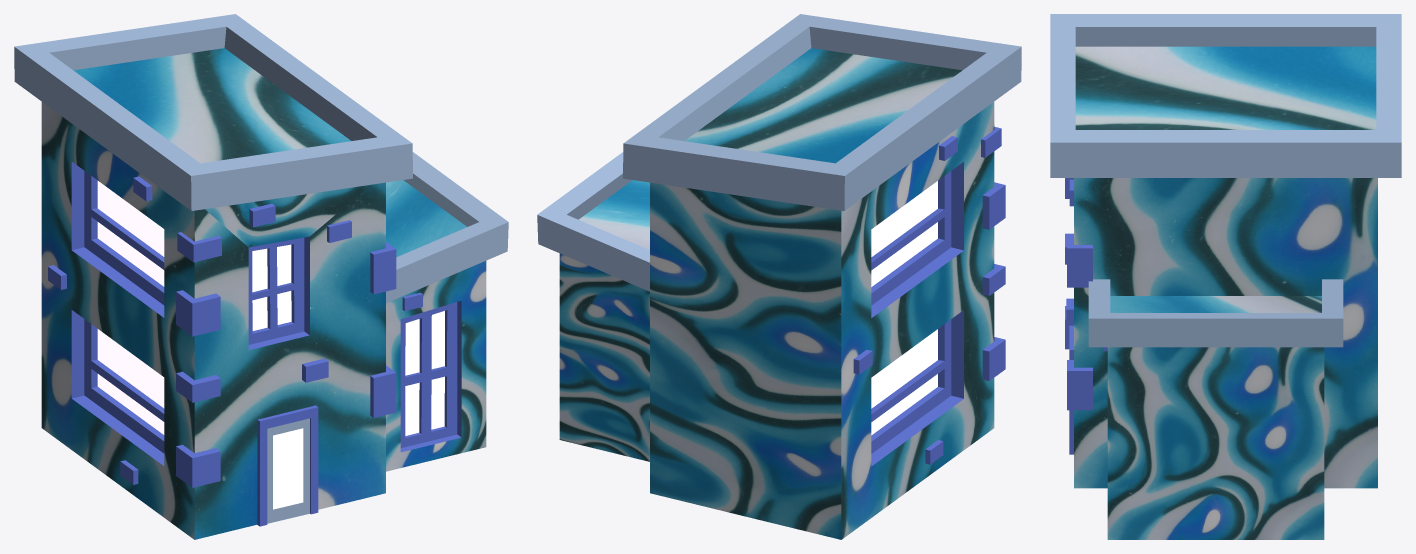
Rendered from Blue building.fbx.
3 renders of one model, left to right at view 1: azimuth 30°, elevation 25°; view 2: azimuth 150°, elevation 25°; view 3: azimuth 270°, elevation 25°, orthographic.
Parts seen in each view (by area): view 1: Blue building; view 2: Blue building; view 3: Blue building.
Part boxes in pixels (x1,y1,x2,y2): Blue building: (14,14,508,539); Blue building: (537,14,1021,539); Blue building: (1050,14,1401,539).
Bounding box in the file's own units: 1427 × 1526 × 1297.
8 materials, 1 textured.
